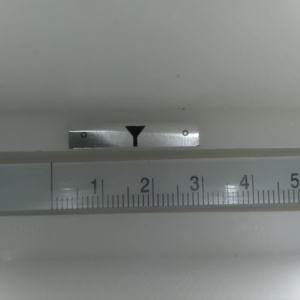1: (89, 178, 96, 193)
2: (139, 176, 150, 192)
3: (189, 176, 199, 191)
4: (239, 175, 249, 189)
5: (289, 172, 299, 188)
finger: (123, 126, 145, 149)
